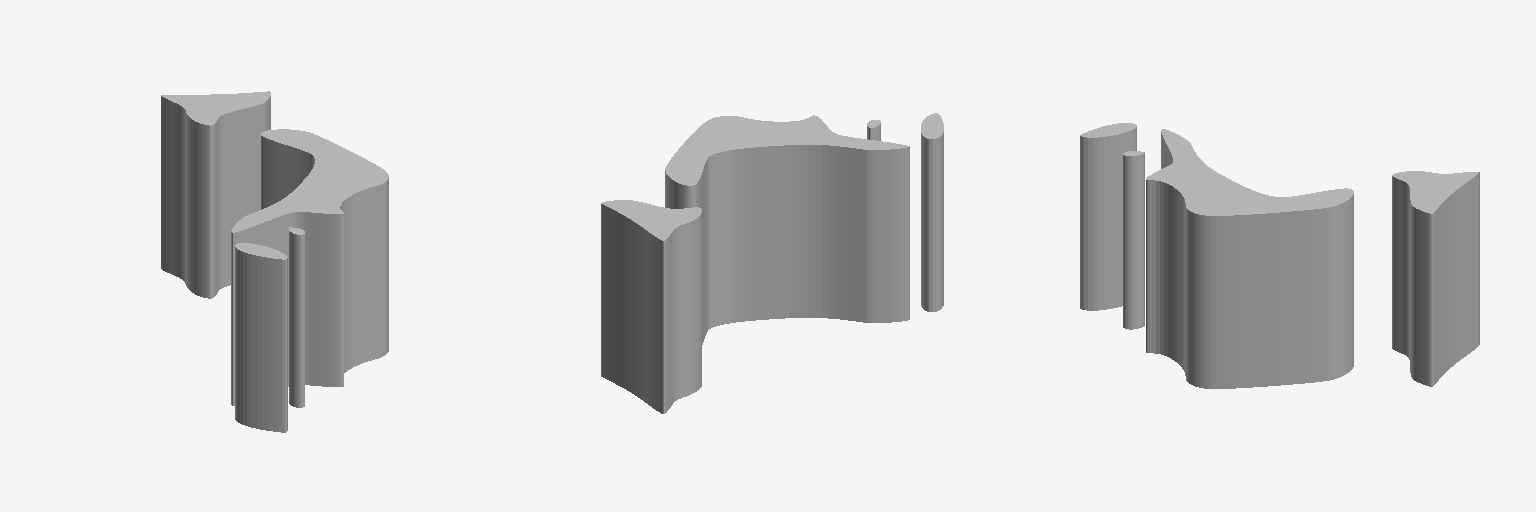
The model's file is Asia_05.obj.
3 renders of one model, left to right at view 1: azimuth 30°, elevation 25°; view 2: azimuth 150°, elevation 25°; view 3: azimuth 270°, elevation 25°, orthographic.
Parts seen in each view (by area): view 1: Asia_05_path4268; view 2: Asia_05_path4268; view 3: Asia_05_path4268.
Part boxes in pixels (x1,y1,x2,y2): Asia_05_path4268: (161,91,388,432); Asia_05_path4268: (601,113,943,413); Asia_05_path4268: (1080,123,1479,388).
Bounding box in the file's own units: 0.1156 × 0.1 × 0.209.